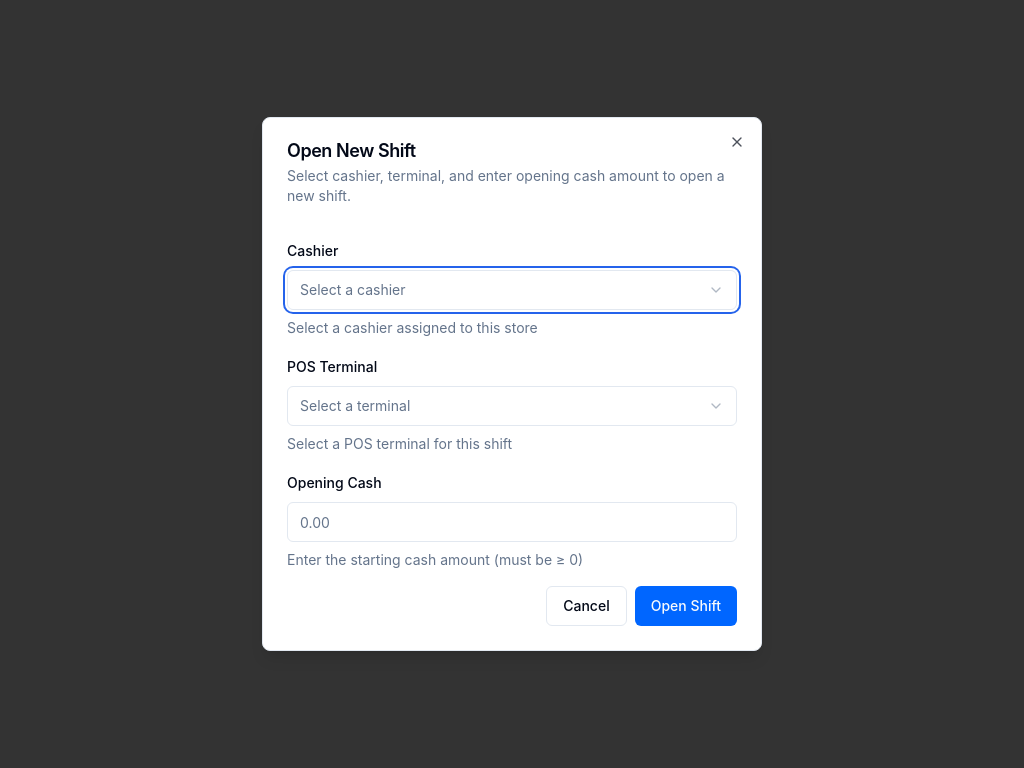
Test: 4.7-COMPONENT: ShiftOpeningForm Component › [P0] 4.7-COMPONENT-029: should handle CASHIER_NOT_FOUND error
Click the dropdown with test id "cashier-select".
click(353, 290)  # box [287,270,737,310]
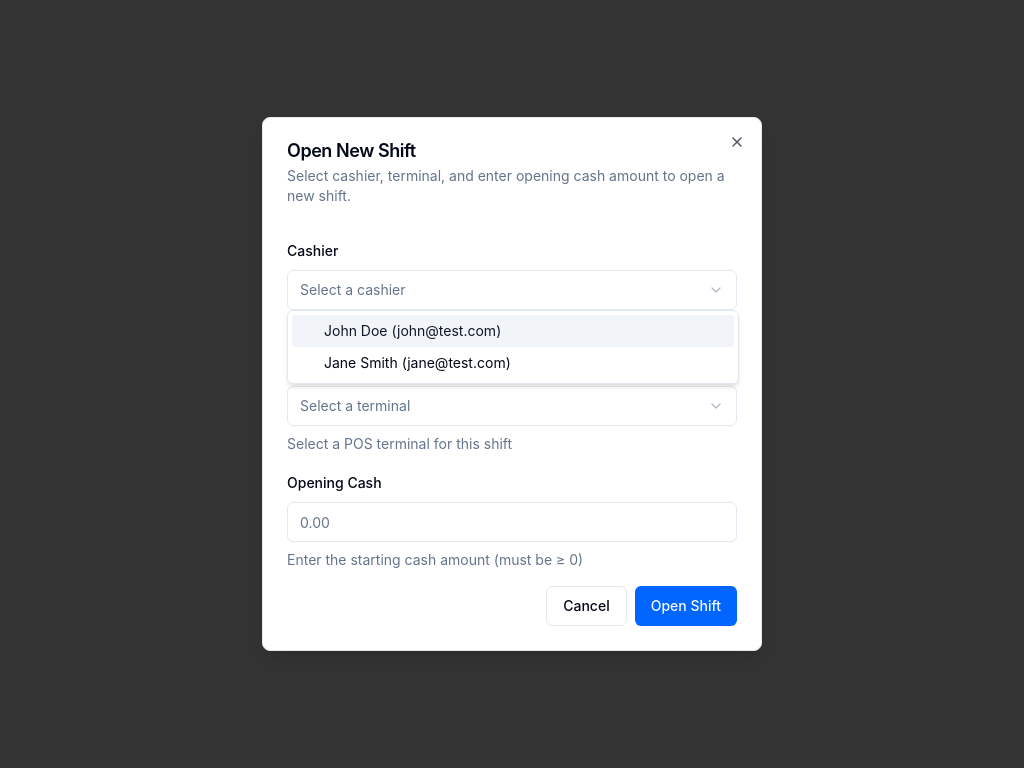
Click the option with test id "cashier-option-550e8400-e29b-41d4-a716-446655440001".
click(356, 330)  # box [292,315,734,347]
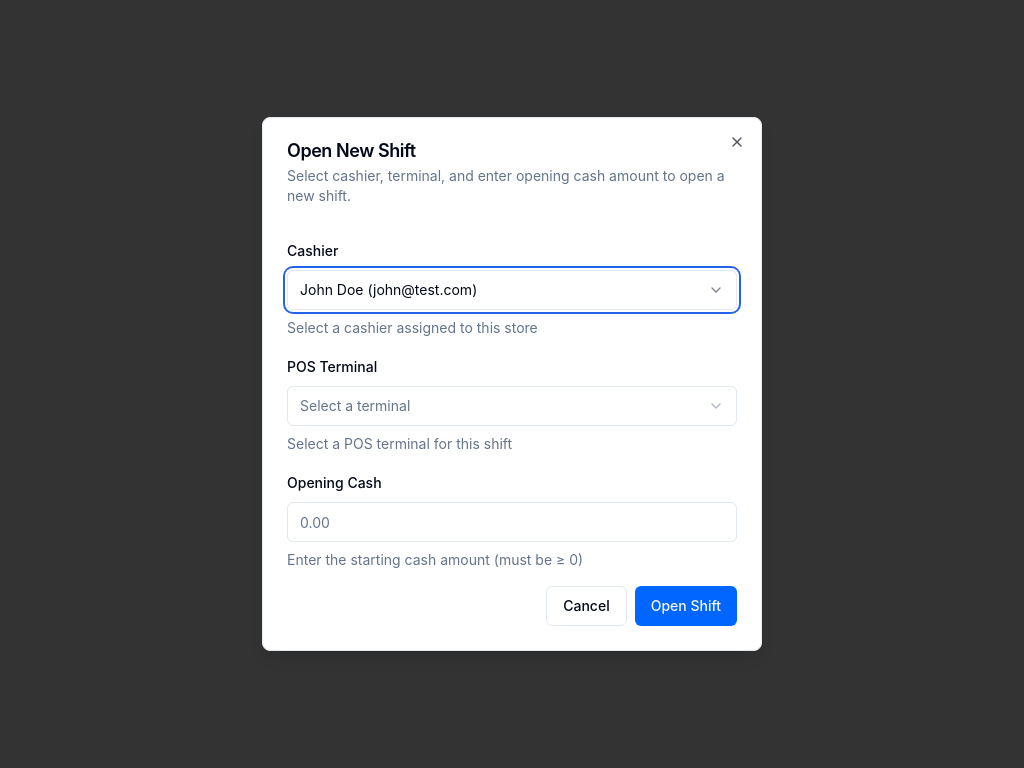
Click the dropdown with test id "terminal-select".
click(355, 406)  # box [287,386,737,426]
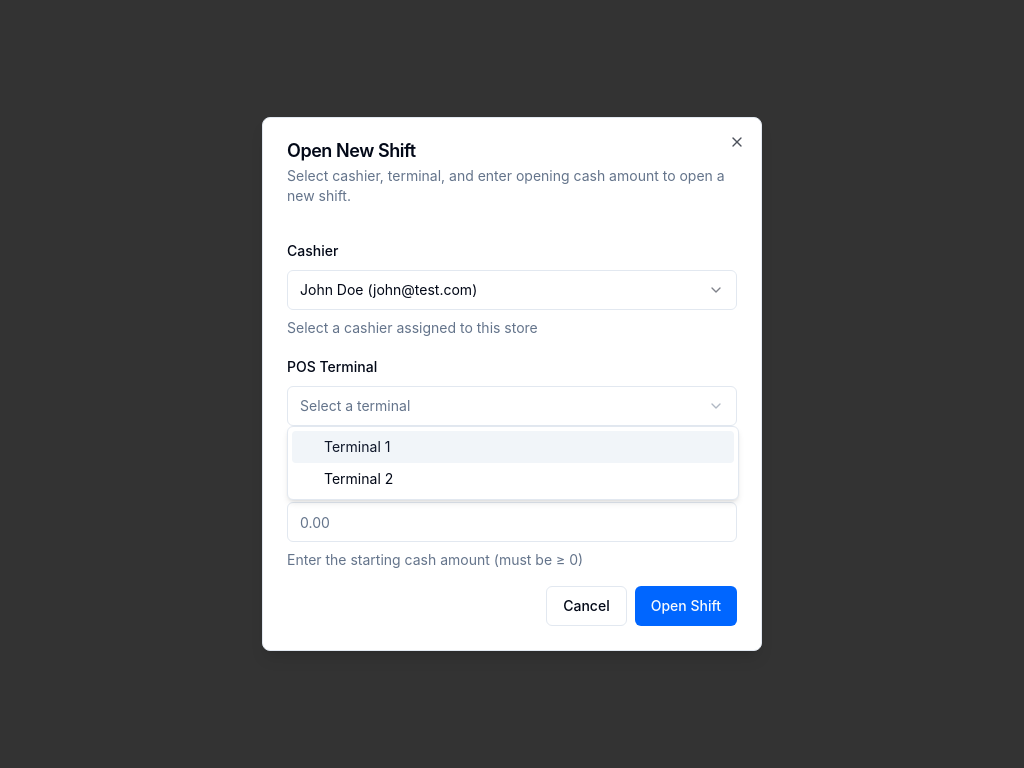
Click the option with test id "terminal-option-550e8400-e29b-41d4-a716-446655440011".
click(357, 446)  # box [292,431,734,463]
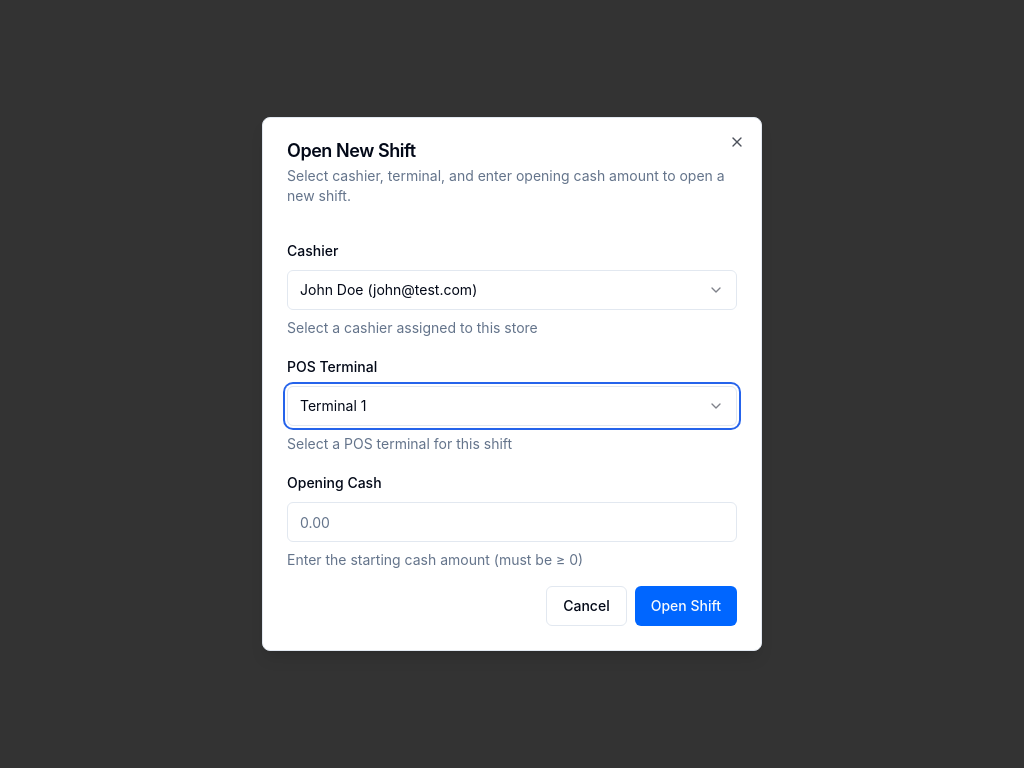
Type "100" into the number field with test id "opening-cash-input".
click(512, 522); type("100")  # box [287,502,737,542]
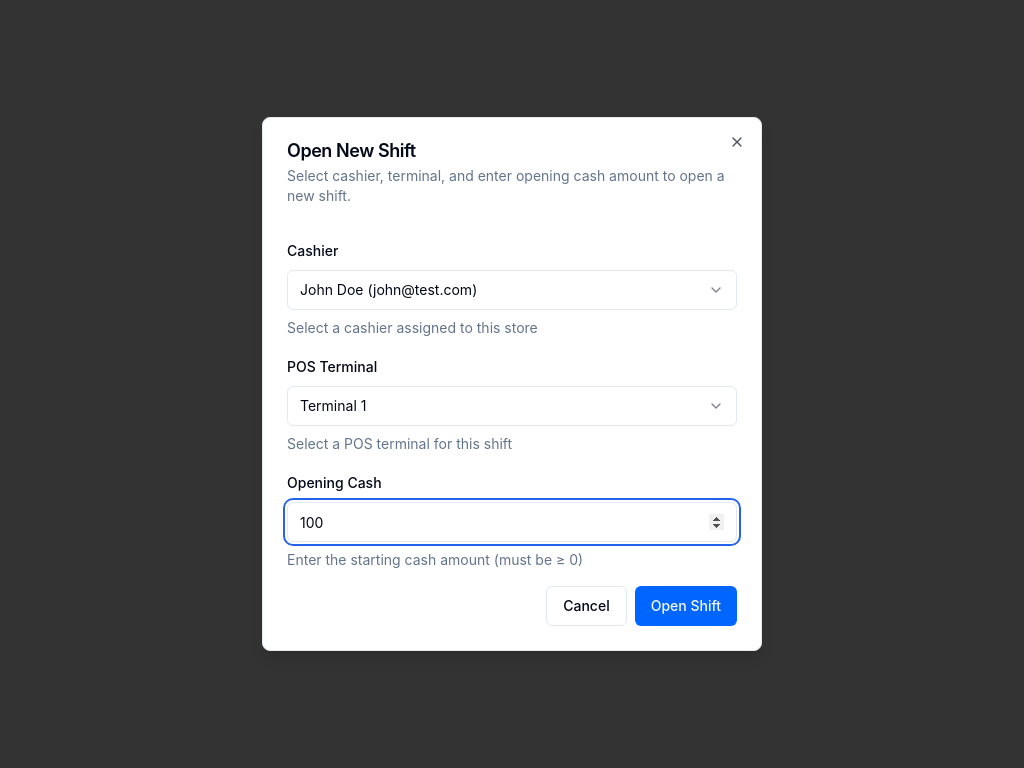
Click the button with test id "submit-shift-opening".
click(686, 606)  # box [635,586,737,626]
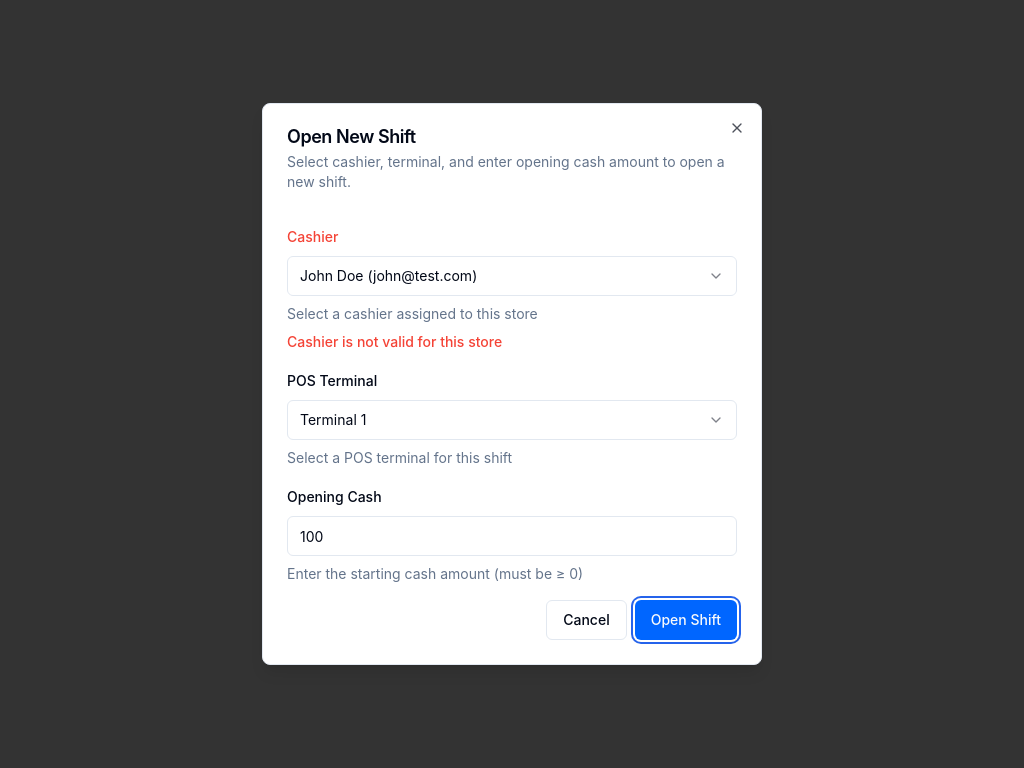
Expected: the text "Cashier is not valid for this store" is shown, [287,333,502,350]
